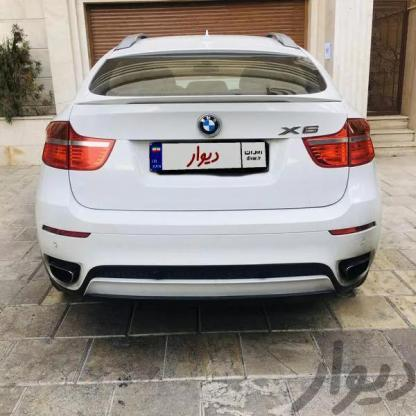Car: (31, 26, 379, 319)
